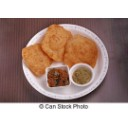poori: (43, 22, 72, 61), (66, 34, 97, 69), (21, 44, 51, 74)
